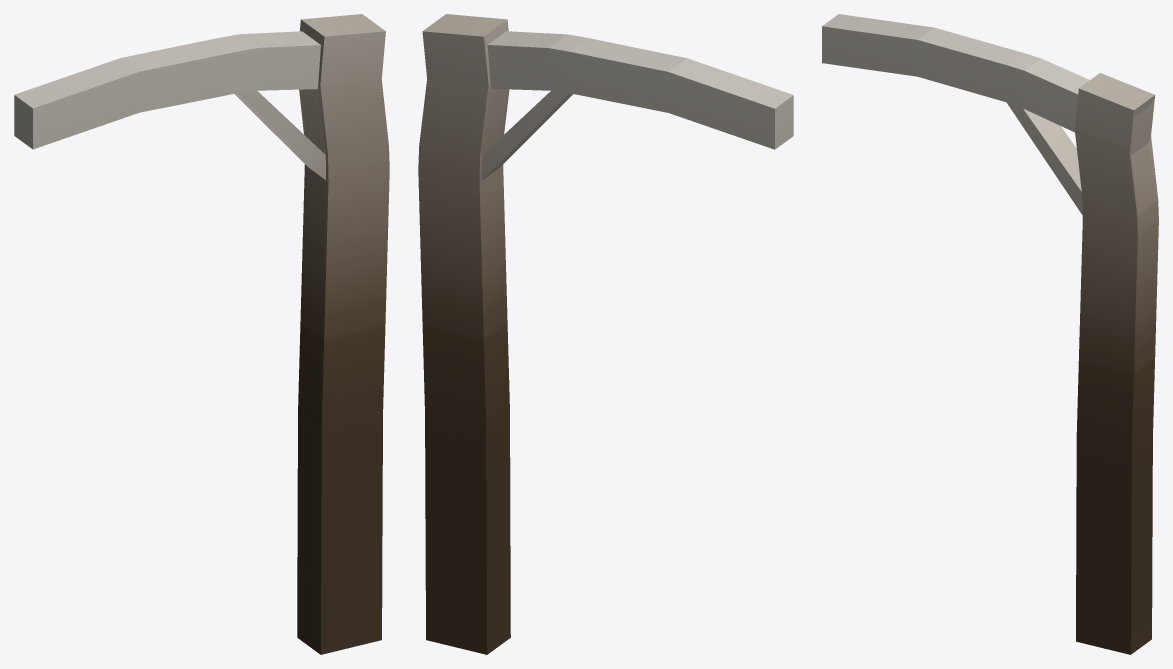
File: lamp_post_snow.obj
3 renders of one model, left to right at view 1: azimuth 30°, elevation 25°; view 2: azimuth 150°, elevation 25°; view 3: azimuth 330°, elevation 25°, orthographic. The views are drawn at different scales.
Visible parts, largest first — view 1: lamp_post_snow; view 2: lamp_post_snow; view 3: lamp_post_snow.
Boxes of the visible parts, x1,y1,x2,y2 form: lamp_post_snow: (14,14,389,654); lamp_post_snow: (418,14,793,654); lamp_post_snow: (822,14,1158,654).
Bounding box in the file's own units: 1.2 × 2.02 × 0.1412.
